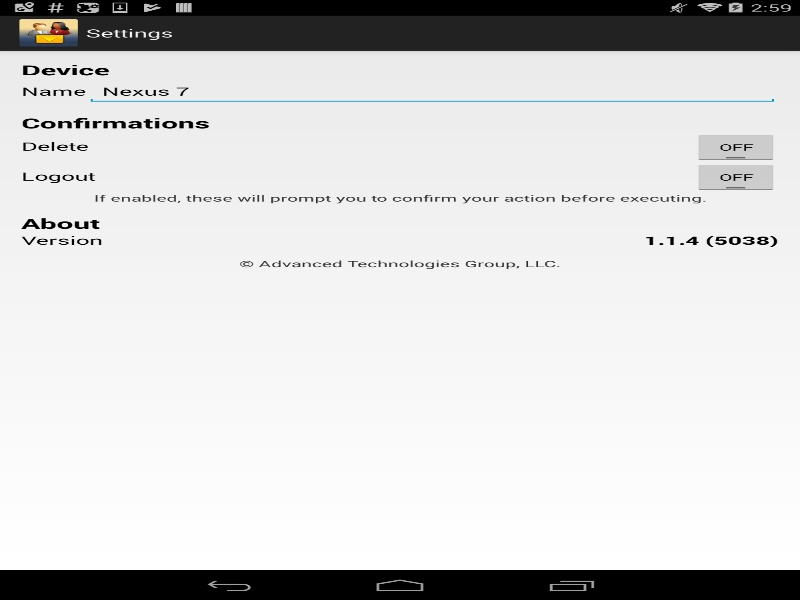Input: (86, 79, 778, 103)
